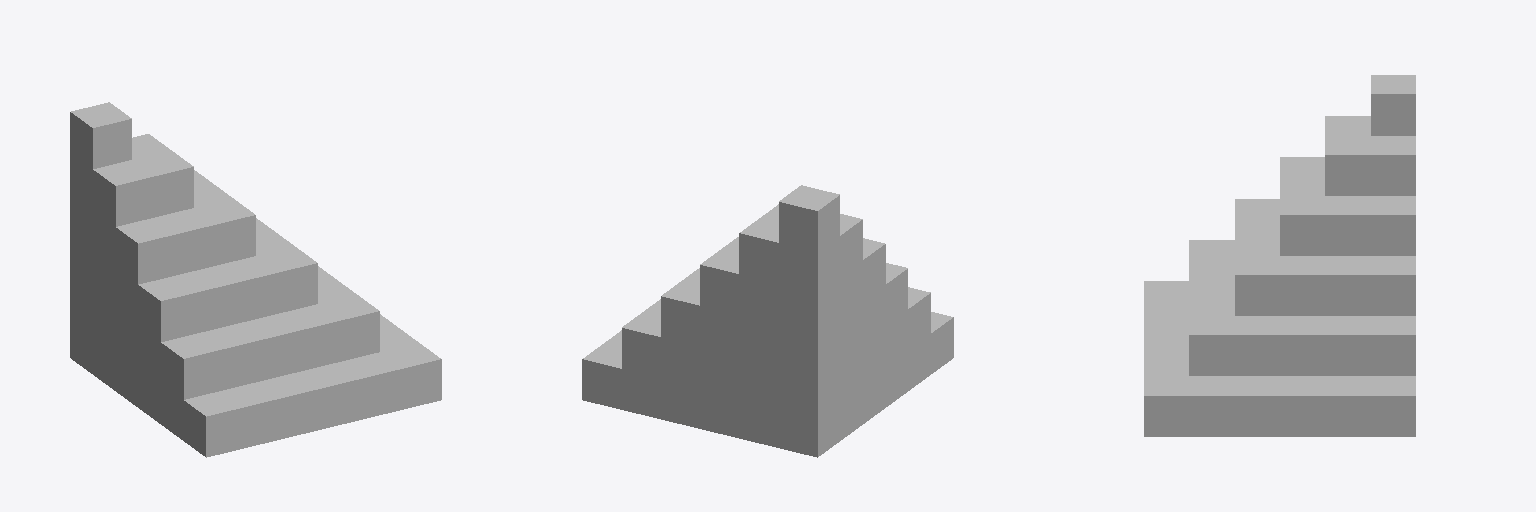
File: Corner Slope Uninkable.obj
3 views of the same model, side by side, from view 1: azimuth 30°, elevation 25°; view 2: azimuth 150°, elevation 25°; view 3: azimuth 270°, elevation 25° (orthographic).
Visible parts, largest first — view 1: object 1; view 2: object 1; view 3: object 1.
Boxes of the visible parts, <box> form: object 1: <box>70,102,441,457</box>; object 1: <box>582,185,953,457</box>; object 1: <box>1144,75,1415,436</box>.
Size of the model in its own units: 0.6 by 0.6 by 0.6.